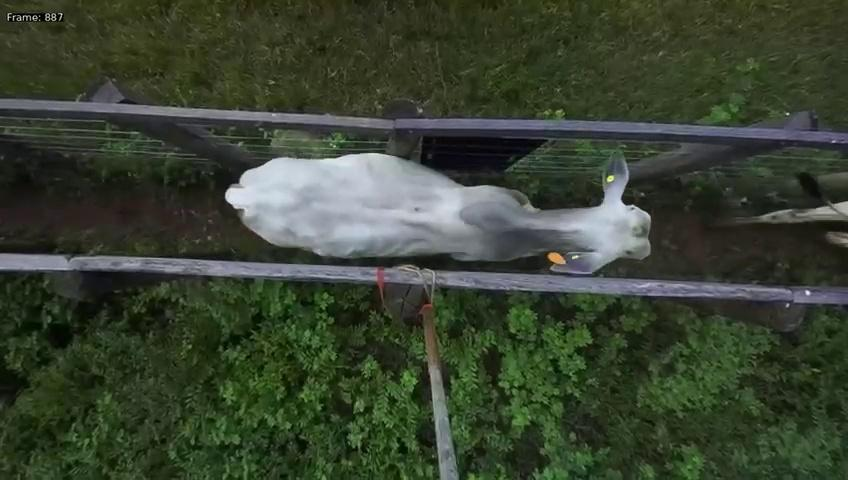cattle: (221, 139, 654, 274)
